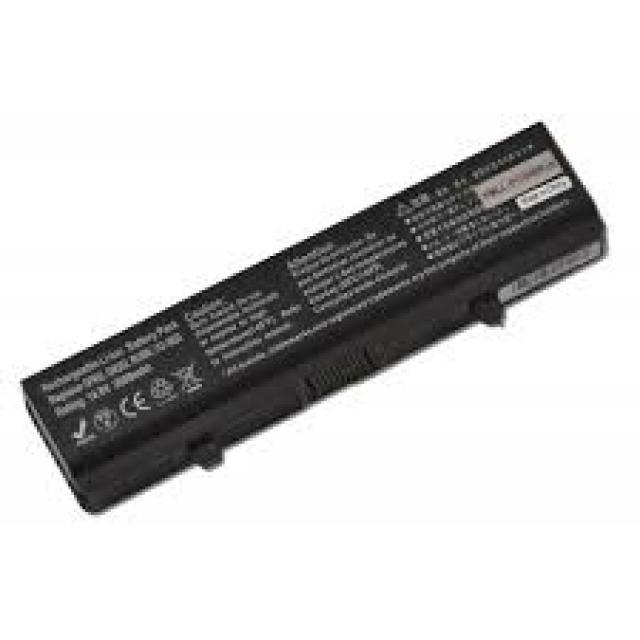battery: (24, 122, 608, 522)
